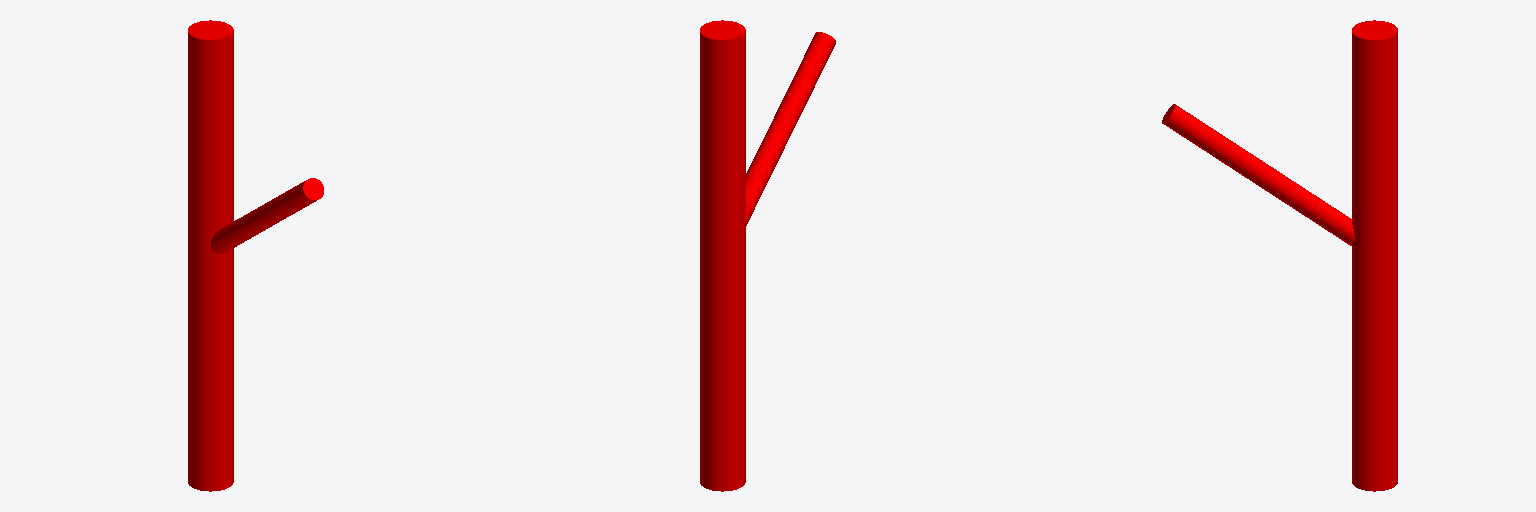
The robot description file, URDF, robot "tree.urdf":
<?xml version="1.0" ?>
<robot name="tree.urdf">
  <link name="baseLink">
    <inertial>
      <origin rpy="0 0 0" xyz="0 0 0"/>
       <mass value=".1"/>
       <inertia ixx="1" ixy="0" ixz="0" iyy="1" iyz="0" izz="1"/>
    </inertial>
    <contact>
      <lateral_friction value="1.0"/>
      <inertia_scaling value="3.0"/>
    </contact>
    <visual>
      <origin rpy="0 0 0" xyz="0 0 0"/>
      <geometry>
        <mesh filename="2.stl" scale="1 1 1" />
      </geometry>
      <material name="red">
        <color rgba="1 0 0 1"/>
      </material>
    </visual>
    <collision>
      <origin rpy="0 0 0" xyz="0 0 0"/>
      <geometry>
        <mesh filename="2_convex.obj" scale="1 1 1" />
      </geometry>
    </collision>
  </link>
</robot>

--- What the picture shows (computed from the rendered views, not written in the file) ---
The picture shows the robot from 3 angles, left to right: view 1: azimuth 30°, elevation 25°; view 2: azimuth 150°, elevation 25°; view 3: azimuth 270°, elevation 25°; orthographic projection.
Model tree.urdf with 1 links and 0 joints (none), rooted at baseLink, posed every joint at zero.
Visible links, largest first — view 1: baseLink; view 2: baseLink; view 3: baseLink.
Link boxes in pixels (x1,y1,x2,y2): baseLink: [188, 20, 323, 491]; baseLink: [700, 20, 835, 491]; baseLink: [1162, 20, 1397, 491].
Size in the robot's own frame: 0.0391 by 0.1994 by 0.421 metres.
Meshes: 1 distinct files referenced, 1 mesh visuals loaded (1 binary STL).